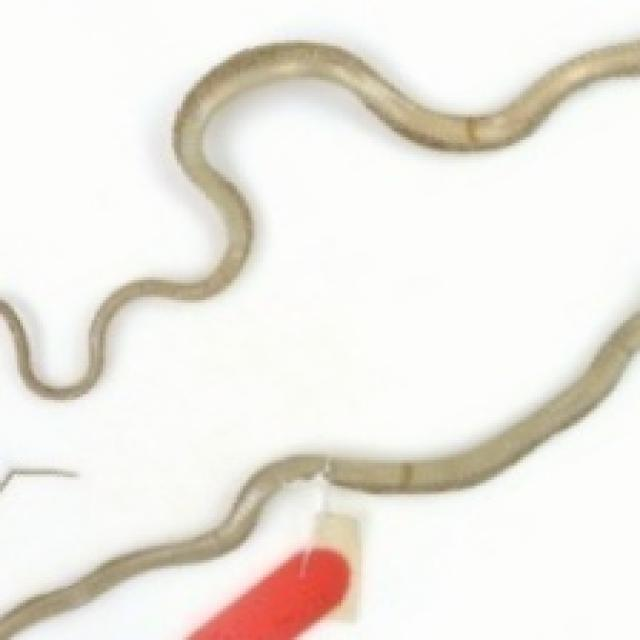mullers wolf snake: (0, 40, 637, 397), (0, 311, 637, 637)
